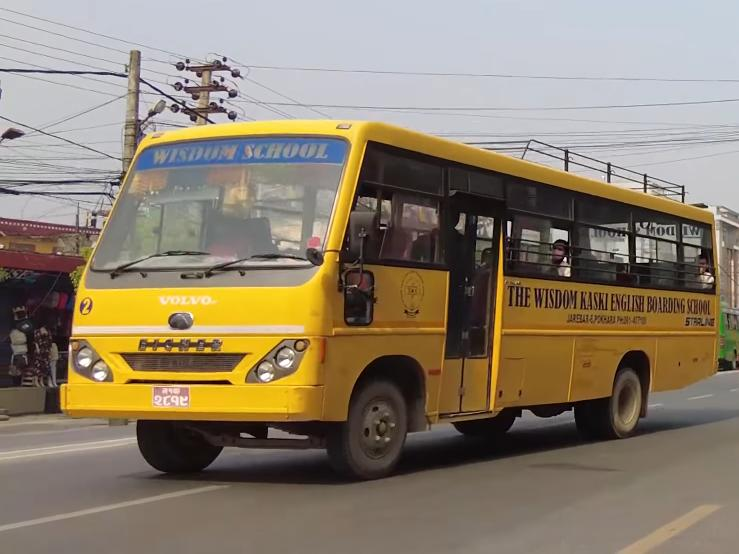school_bus: (54, 112, 728, 488)
